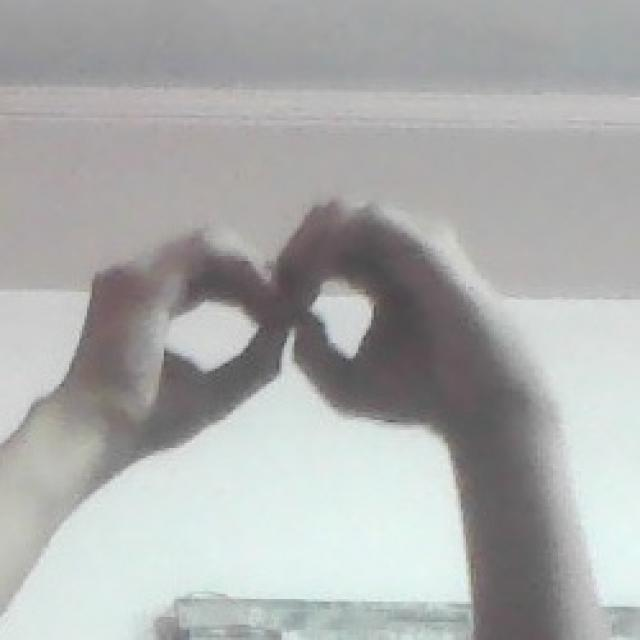Alphabet-B: (59, 200, 556, 480)
